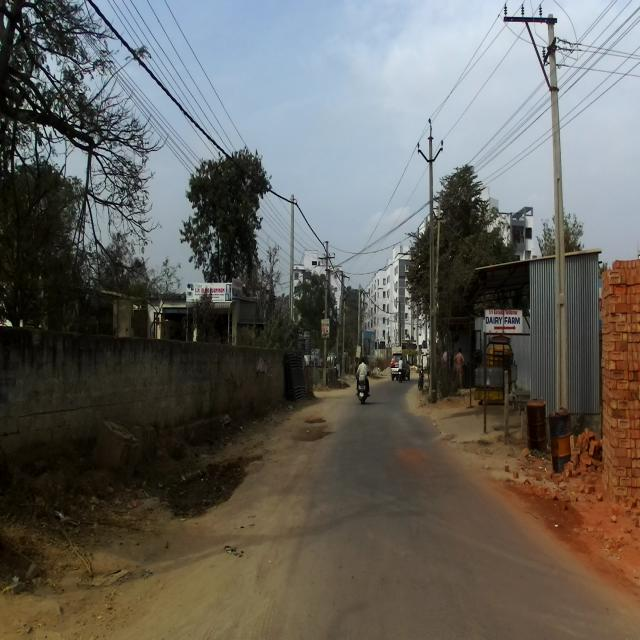electric pole ahead at: (500, 0, 573, 424), (416, 111, 448, 406)
